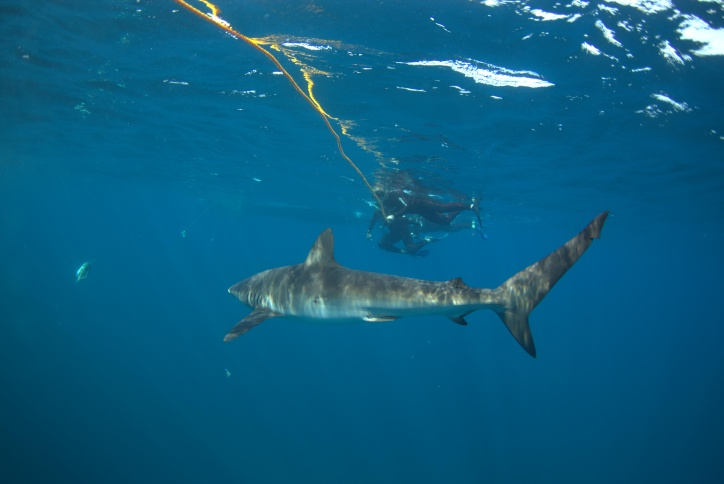Sedoso: (188, 206, 618, 380)
